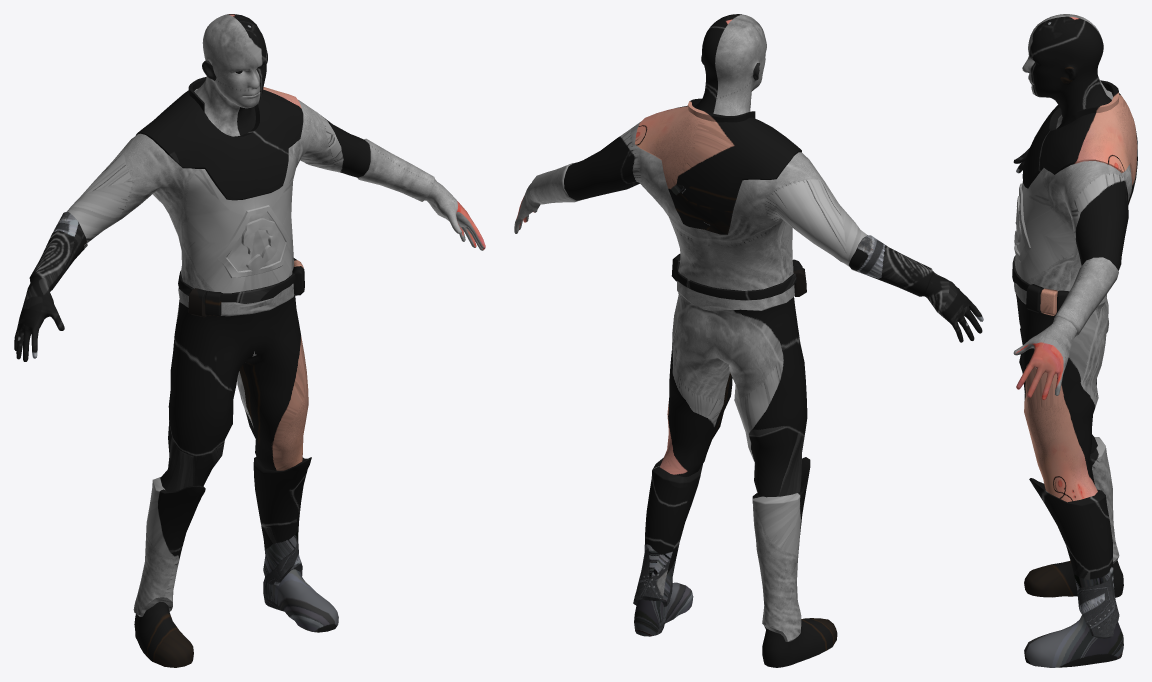
The model's file is STSP.obj.
3 renders of one model, left to right at view 1: azimuth 30°, elevation 25°; view 2: azimuth 150°, elevation 25°; view 3: azimuth 270°, elevation 25°, orthographic.
Parts seen in each view (by area): view 1: char_belt_geo1; view 2: char_belt_geo1; view 3: char_belt_geo1.
Boxes of the visible parts, x1,y1,x2,y2 form: char_belt_geo1: [14, 14, 485, 667]; char_belt_geo1: [514, 14, 983, 667]; char_belt_geo1: [1012, 14, 1137, 667].
Size of the model in its own units: 1.52 by 1.94 by 0.3643.
Materials: 1 (1 with a texture image).
